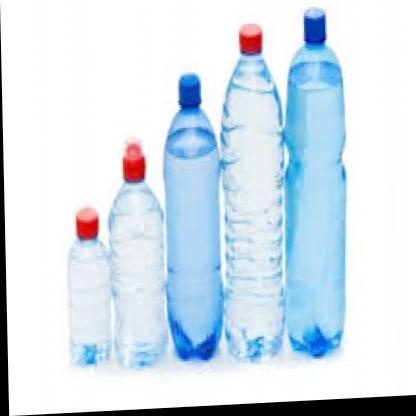trash: (285, 8, 345, 356), (222, 24, 283, 359), (164, 74, 222, 359), (109, 143, 165, 367), (68, 207, 110, 364)
